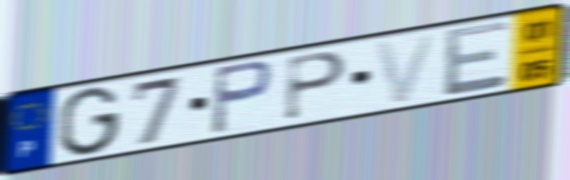7: (128, 76, 185, 147)
E: (441, 17, 511, 100)
G: (55, 85, 124, 159)
P: (208, 57, 277, 137), (281, 49, 350, 123)
V: (371, 30, 441, 107)
